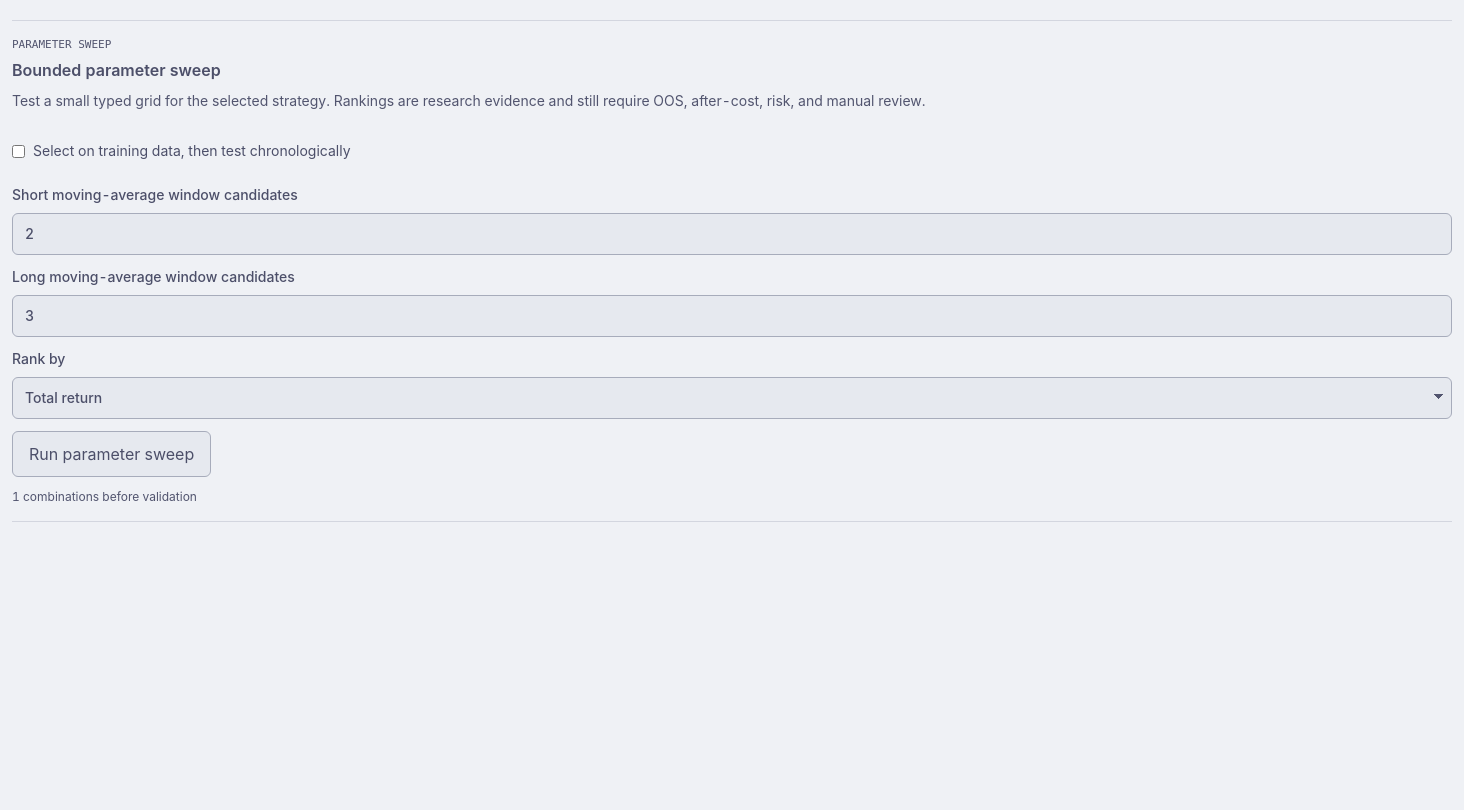
Test: legacy sweep stays default and omits the chronological boundary and test-report read
This screenshot has width=1464, height=810.
Expected: the checkbox is not checked, [12,144,25,158]
What coordinates should you click on to do the following:
click the button "Run parameter sweep"
I would click on:
 (112, 454)
Its box is [12,431,211,477].
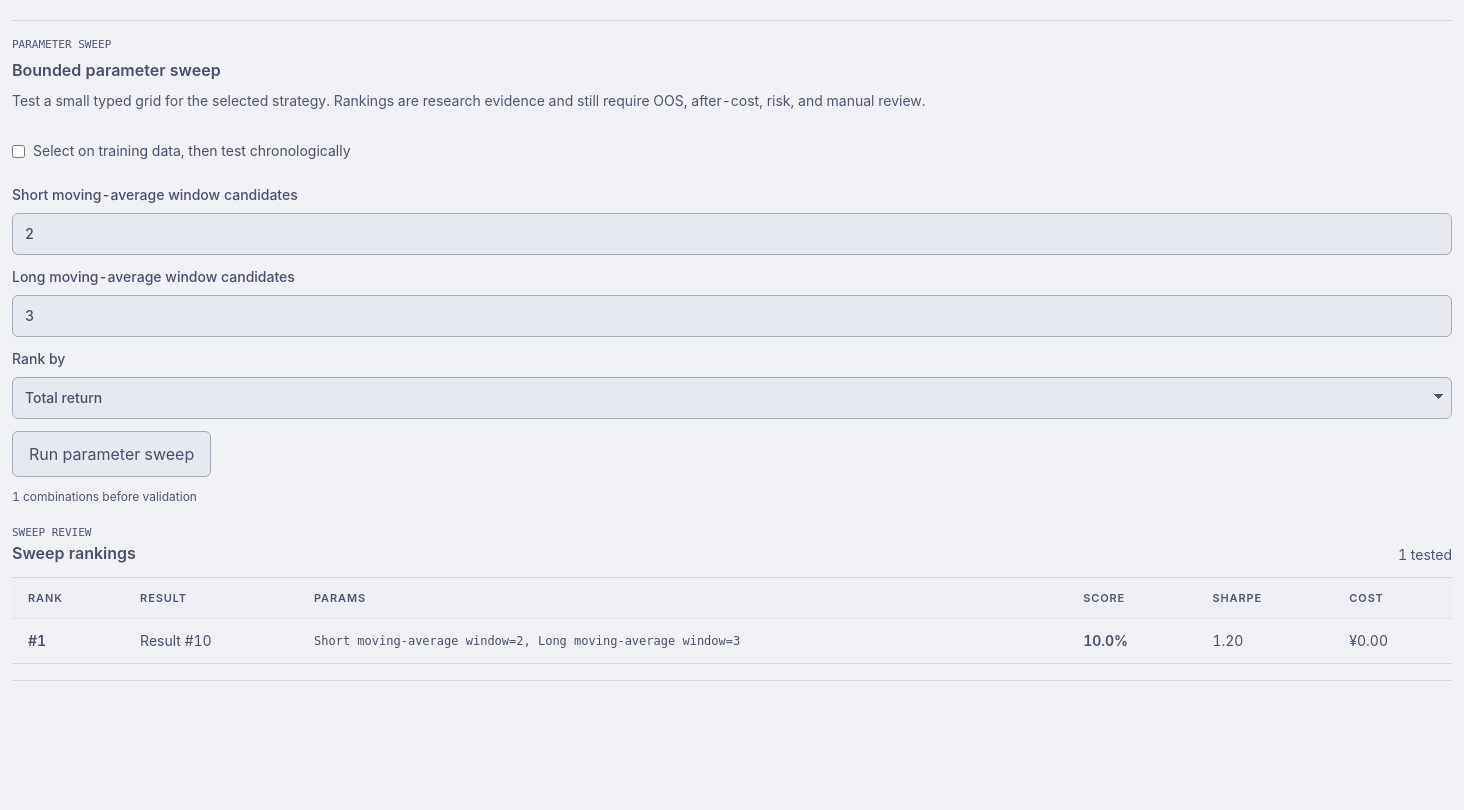
Now the heading "Sweep rankings" is shown, box [12,541,136,565]
